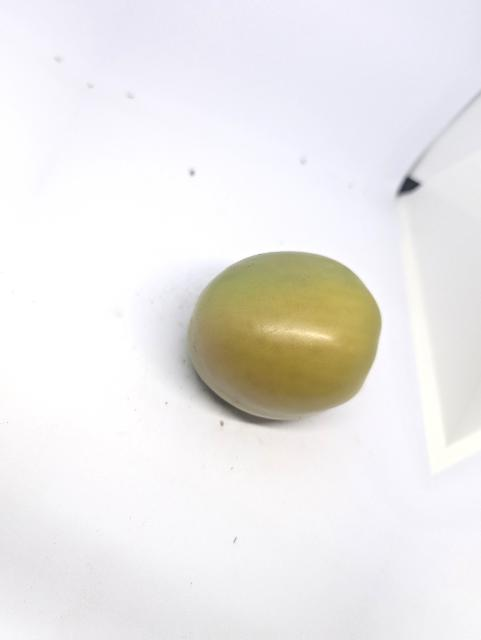breaker: (187, 248, 385, 426)
